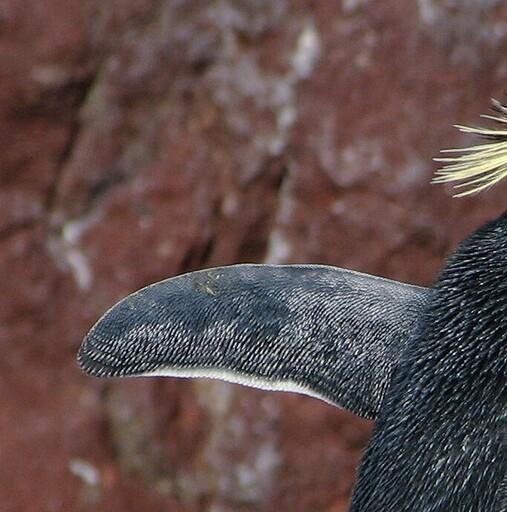Southern Rockhopper Penguin: (58, 14, 507, 512)
